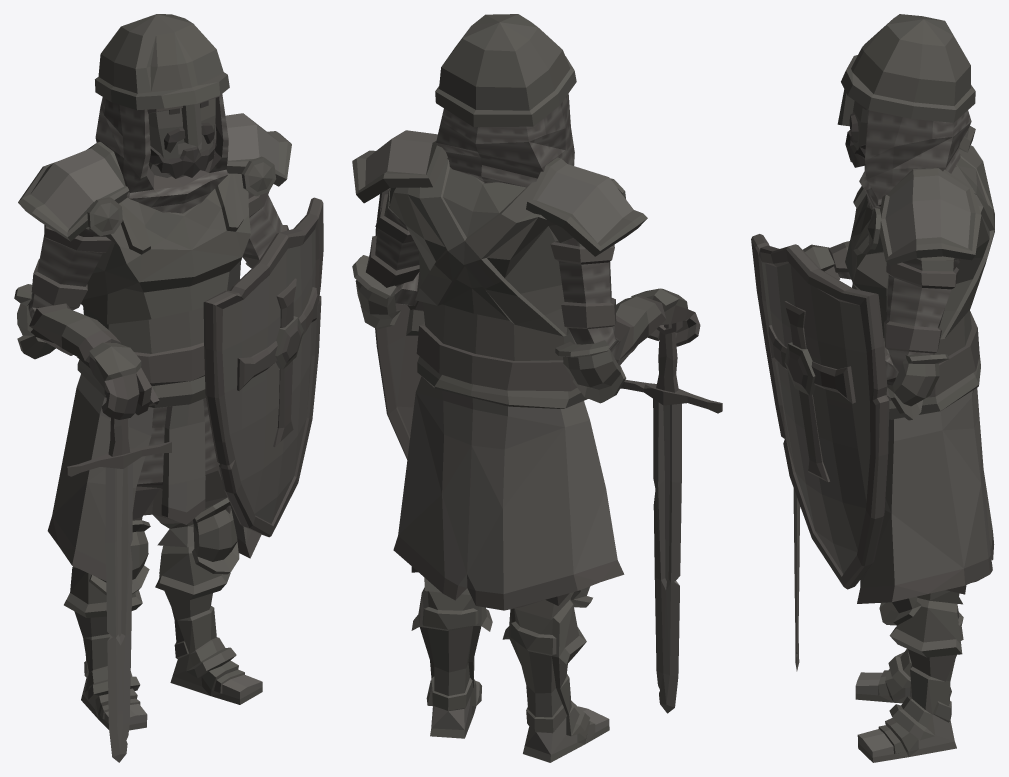
The model's file is env_statue.gltf.
3 renders of one model, left to right at view 1: azimuth 30°, elevation 25°; view 2: azimuth 150°, elevation 25°; view 3: azimuth 270°, elevation 25°, orthographic. The views are drawn at different scales.
Parts seen in each view (by area): view 1: env_statue; view 2: env_statue; view 3: env_statue.
Part boxes in pixels (x1,y1,x2,y2): env_statue: [14, 14, 323, 762]; env_statue: [352, 14, 722, 762]; env_statue: [751, 14, 994, 762].
Size of the model in its own units: 1.24 by 2.74 by 0.8594.
1 material, 1 textured.
